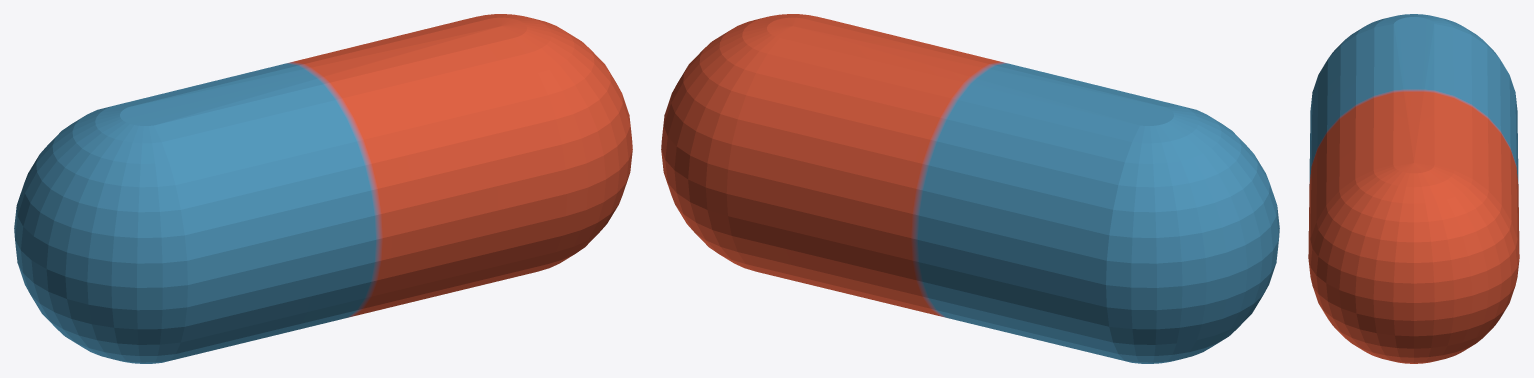
Rendered from fixedPilly.fbx.
3 views of the same model, side by side, from view 1: azimuth 30°, elevation 25°; view 2: azimuth 150°, elevation 25°; view 3: azimuth 270°, elevation 25° (orthographic). The views are drawn at different scales.
Visible parts, largest first — view 1: pill; view 2: pill; view 3: pill.
Boxes of the visible parts, <box> form: pill: <box>14,14,632,363</box>; pill: <box>661,14,1279,363</box>; pill: <box>1308,14,1519,363</box>.
Bounding box in the file's own units: 512 × 200 × 200.
Materials: 1 (1 with a texture image).
